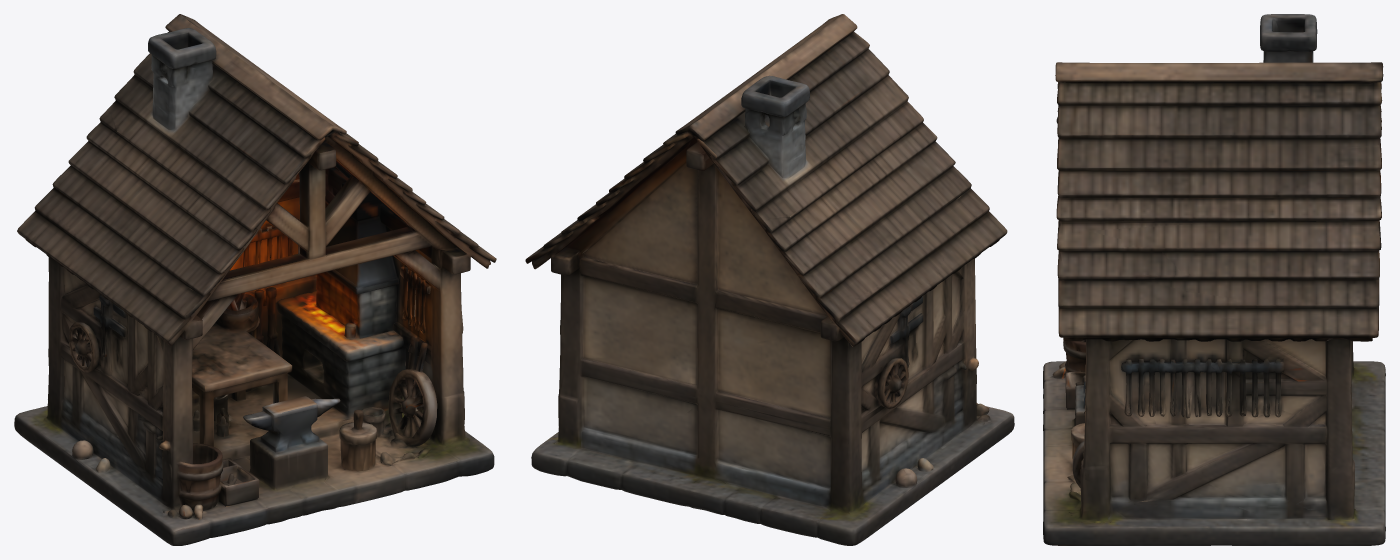
Rendered from blacksmith-workshop.glb.
3 views of the same model, side by side, from view 1: azimuth 30°, elevation 25°; view 2: azimuth 150°, elevation 25°; view 3: azimuth 270°, elevation 25° (orthographic). The views are drawn at different scales.
Parts seen in each view (by area): view 1: node_0; view 2: node_0; view 3: node_0.
Boxes of the visible parts, x1=… form: node_0: x1=14, y1=14, x2=496, y2=545; node_0: x1=525, y1=14, x2=1014, y2=545; node_0: x1=1043, y1=14, x2=1385, y2=545.
Bounding box in the file's own units: 0.7012 × 0.7981 × 0.5906.
Materials: 1 (1 with a texture image).
